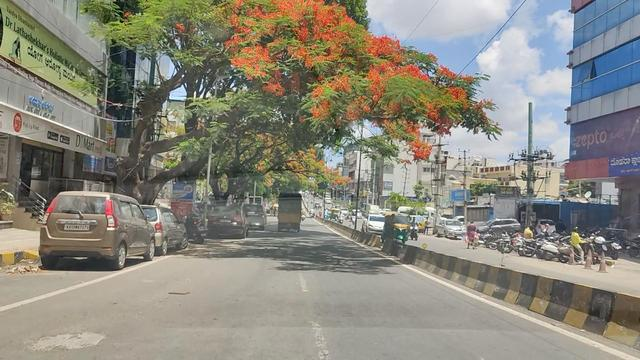HMV: (278, 194, 303, 233)
LMV: (37, 188, 123, 261)
